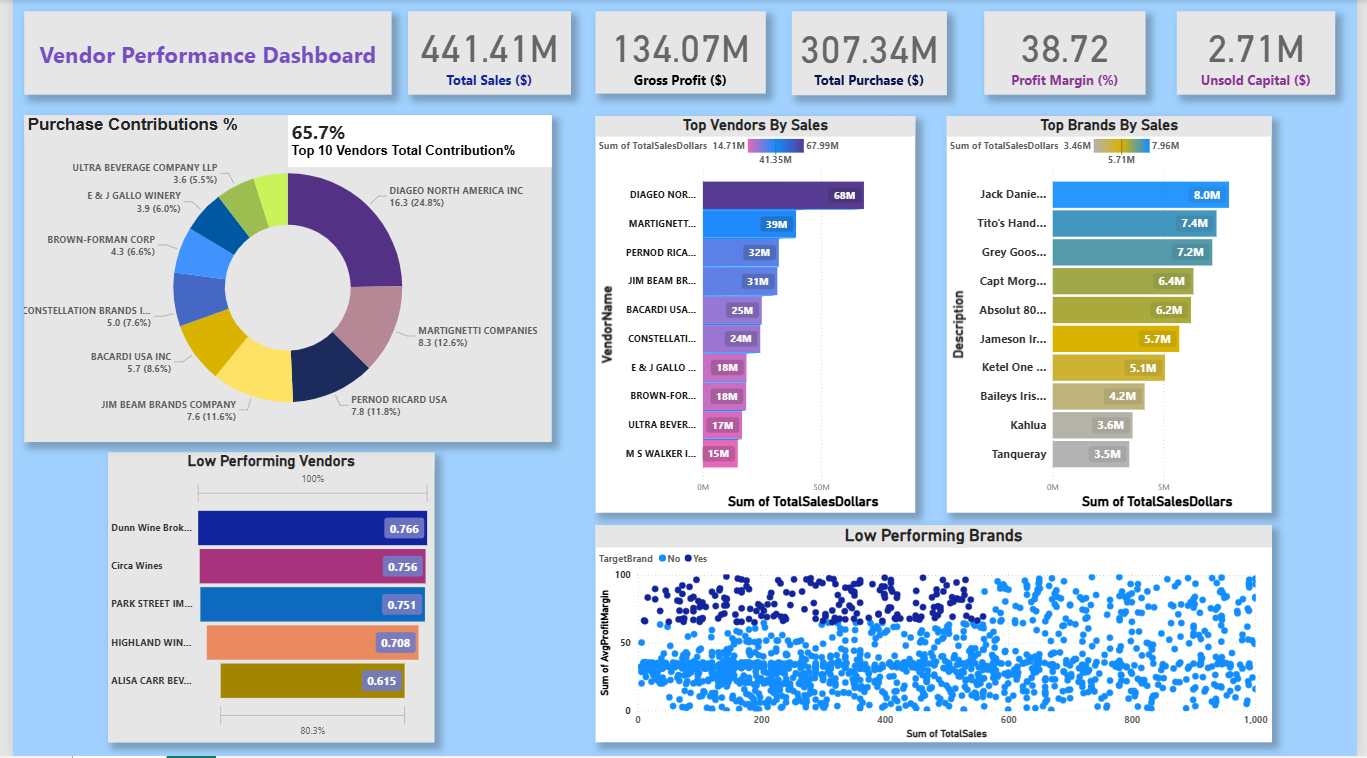

The dashboard page shown, as its layout file describes it:
{"tool":"powerbi","page":{"name":"Page 1","canvas":[1920,1080],"ordinal":0},"visuals":[{"type":"scatterChart","title":"Low Performing Brands","fields":{"Category":["BrandPerformance.Description"],"X":["BrandPerformance.TotalSales"],"Y":["BrandPerformance.AvgProfitMargin"],"Series":["BrandPerformance.TargetBrand"]},"box":[832.1,750,966.1,310.7],"z":0},{"type":"textbox","box":[16.5,16.5,524.9,119.4],"z":1000},{"type":"card","fields":{"Values":["vendor_sales_summary.TotalSalesDollars"]},"box":[564,16.5,232.6,119.4],"z":2000},{"type":"card","fields":{"Values":["vendor_sales_summary.TotalPurchaseDollars"]},"box":[1112.5,16.1,221.4,119.6],"z":3000},{"type":"card","fields":{"Values":["vendor_sales_summary.GrossProfit"]},"box":[831.6,16.5,242.9,117.3],"z":4000},{"type":"card","fields":{"Values":["vendor_sales_summary.ProfitMargin"]},"box":[1387.3,16.5,230.5,119.4],"z":5000},{"type":"card","fields":{"Values":["vendor_sales_summary.UnsoldCapital"]},"box":[1663.1,16.5,226.4,119.4],"z":6000},{"type":"funnel","title":"Low Performing Vendors","fields":{"Category":["LowTurnoverVendor.VendorName"],"Y":["LowTurnoverVendor.AvgStockTurnOver"]},"box":[136,646,466.1,414.3],"z":7000},{"type":"barChart","title":"Top Vendors By Sales","fields":{"Category":["vendor_sales_summary.VendorName"],"Y":["vendor_sales_summary.TotalSalesDollars"]},"box":[832.1,166.1,457.1,566.1],"z":8000},{"type":"barChart","title":"Top Brands By Sales","fields":{"Y":["vendor_sales_summary.TotalSalesDollars"],"Category":["vendor_sales_summary.Description"]},"box":[1333.9,166.1,464.3,566.1],"z":9000},{"type":"donutChart","title":"Purchase Contributions %","fields":{"Category":["PurchaseContribution.VendorName"],"Y":["PurchaseContribution.PurchaseContributions%"]},"box":[16.5,164.7,753.3,467.2],"z":10000},{"type":"textbox","box":[393.1,164.7,376.7,74.1],"z":11000}]}

Visuals, with their boxes in screenshot pixels (x1, y1, x2, y2), scaled from the page's 1920x1080 canvas onto the 1367x758 screenshot:
"Low Performing Brands" scatterChart: crop(592, 526, 1280, 744)
textbox: crop(12, 12, 385, 95)
card - vendor_sales_summary.TotalSalesDollars: crop(402, 12, 567, 95)
card - vendor_sales_summary.TotalPurchaseDollars: crop(792, 11, 950, 95)
card - vendor_sales_summary.GrossProfit: crop(592, 12, 765, 94)
card - vendor_sales_summary.ProfitMargin: crop(988, 12, 1152, 95)
card - vendor_sales_summary.UnsoldCapital: crop(1184, 12, 1345, 95)
"Low Performing Vendors" funnel: crop(97, 453, 429, 744)
"Top Vendors By Sales" barChart: crop(592, 117, 918, 514)
"Top Brands By Sales" barChart: crop(950, 117, 1280, 514)
"Purchase Contributions %" donutChart: crop(12, 116, 548, 444)
textbox: crop(280, 116, 548, 168)
